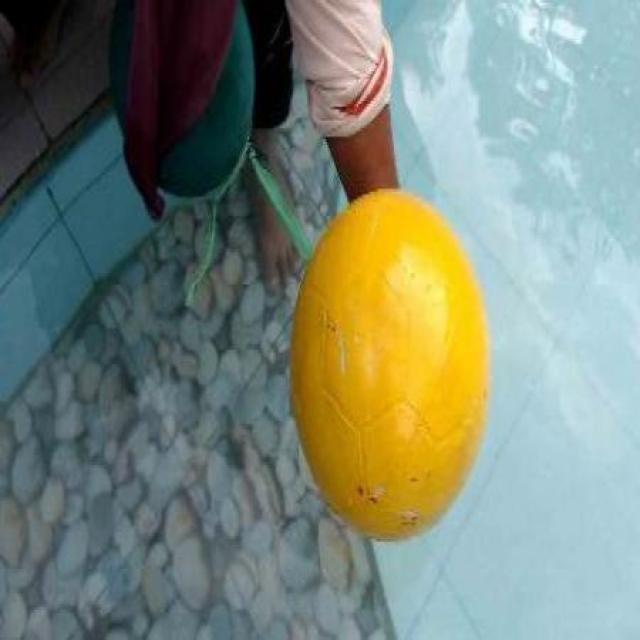buoy: (290, 189, 489, 539)
